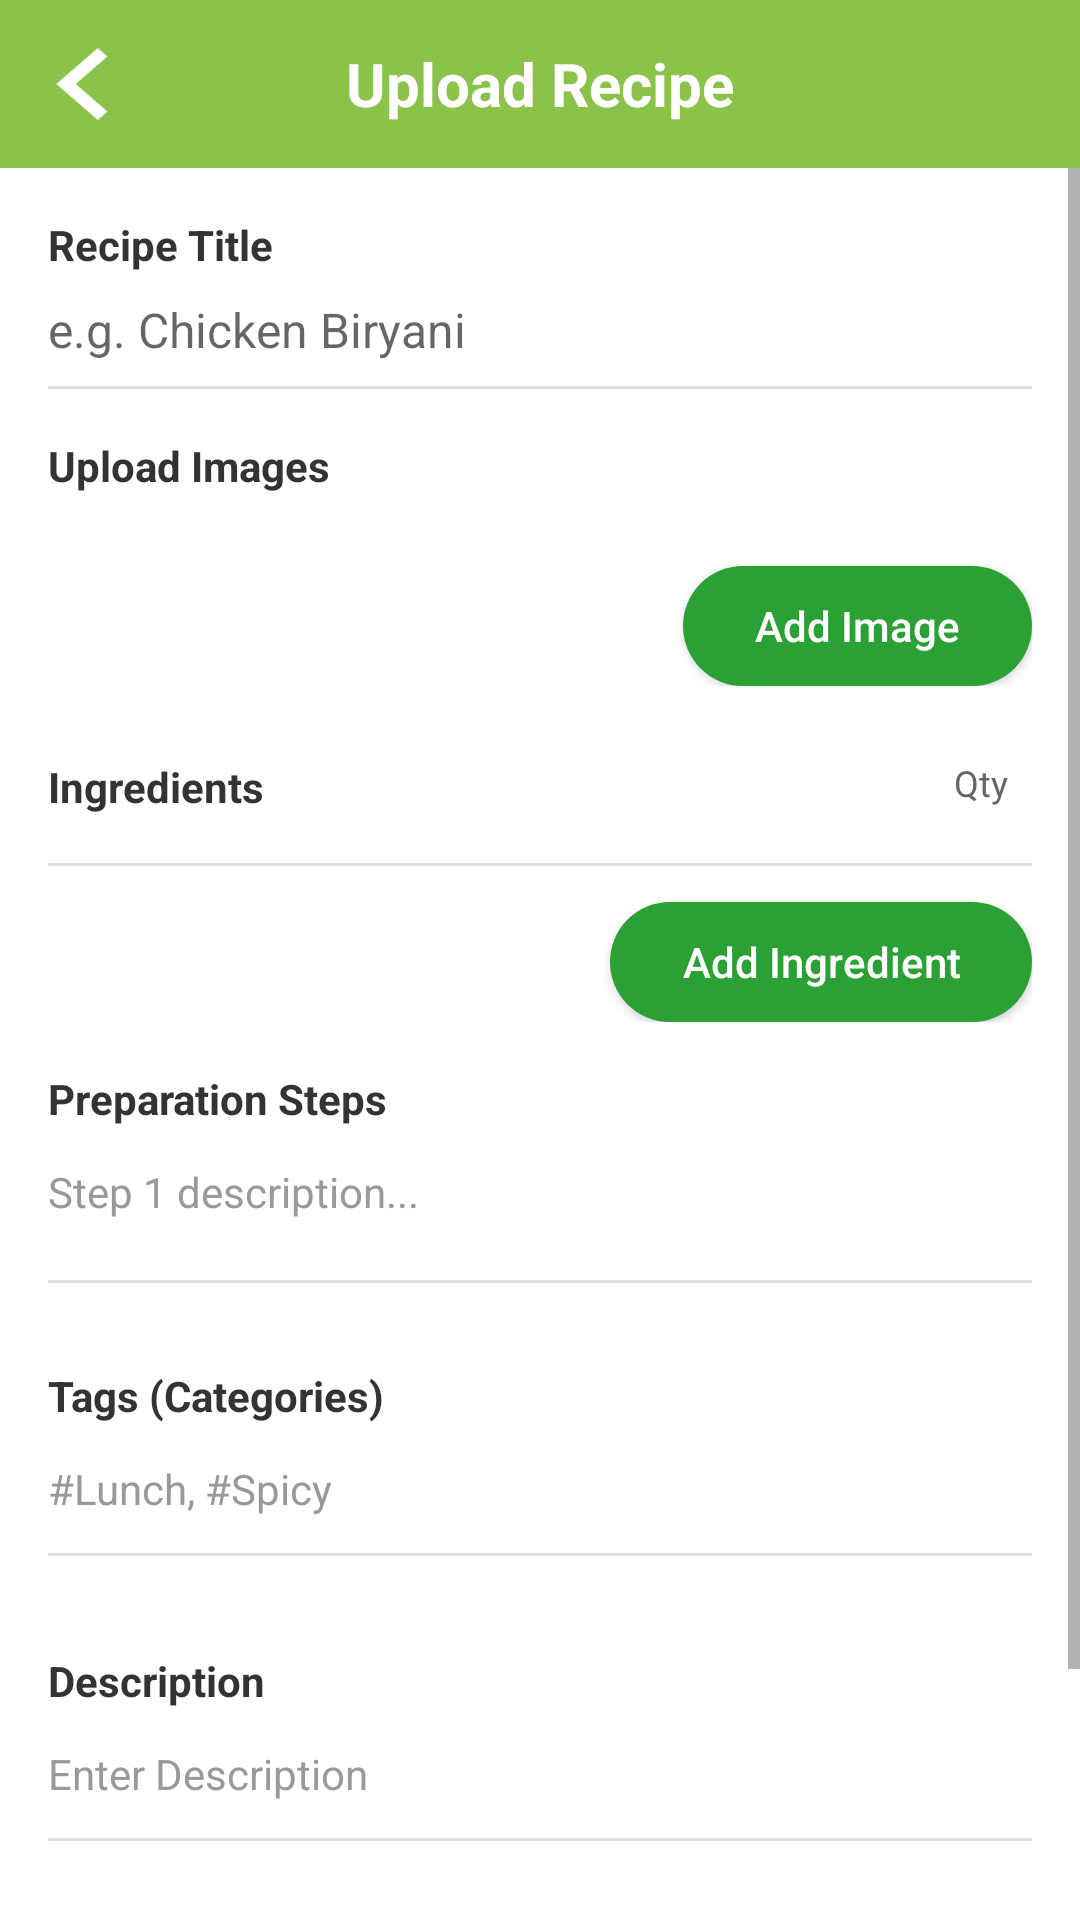

Screen size 1080w x 1920h. Icon name, then its center in pixels as point (x, y):
Back: point (82, 84)
